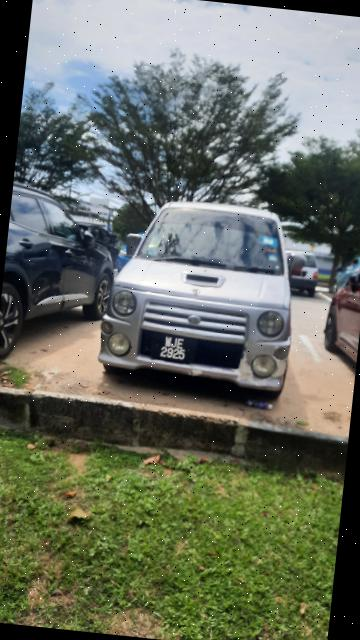License_Plate: (145, 329, 200, 369)
car: (91, 185, 309, 409)
